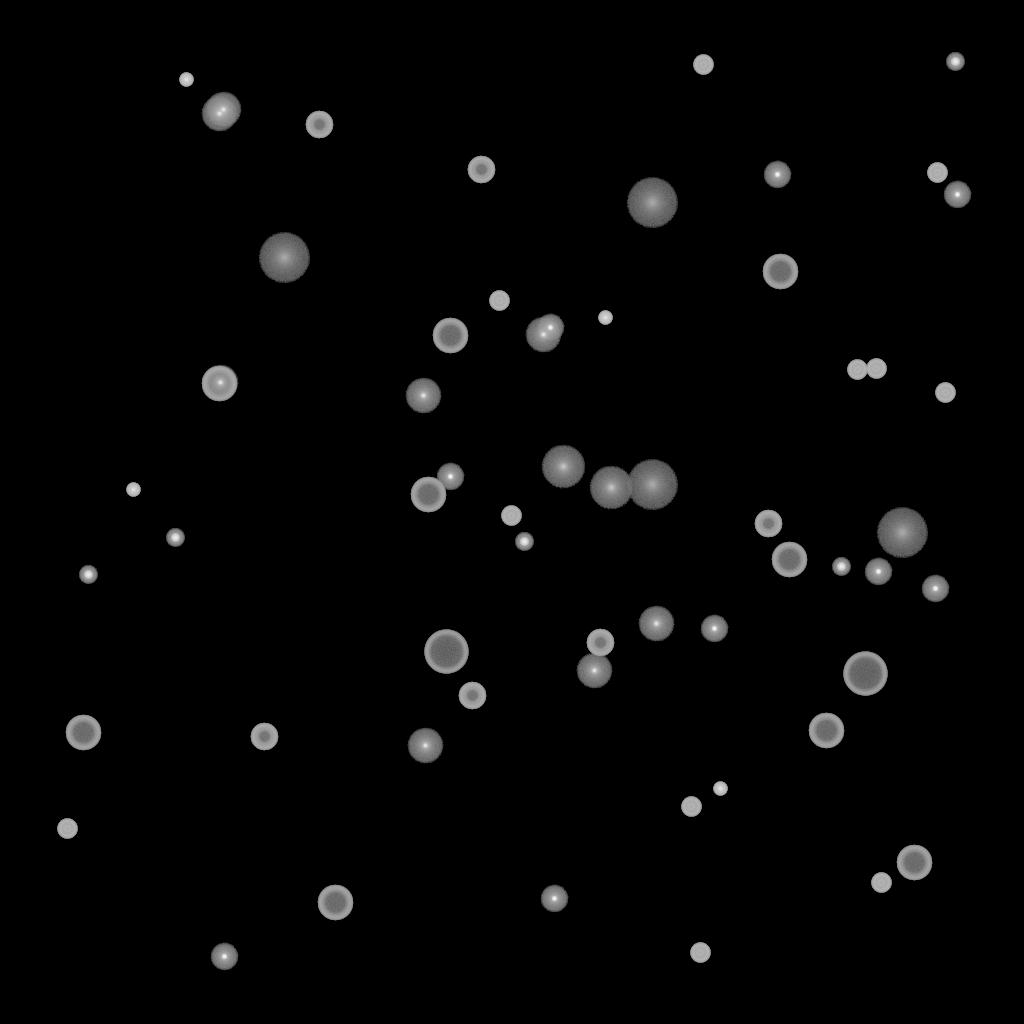depth:-10: (921, 575, 949, 603), (210, 943, 238, 971), (536, 314, 564, 342), (763, 161, 791, 189), (436, 463, 464, 491), (943, 181, 971, 209), (864, 558, 892, 586), (540, 885, 568, 913), (700, 615, 728, 643)
depth:-20: (515, 533, 533, 551), (79, 566, 97, 584), (832, 558, 850, 576), (166, 529, 184, 547), (946, 53, 964, 71)
depth:-30: (598, 311, 612, 325), (179, 73, 193, 87), (713, 782, 727, 796), (126, 483, 140, 497)
depth:-40: (690, 943, 710, 963), (866, 359, 886, 379), (57, 819, 77, 839), (501, 506, 521, 526), (681, 797, 701, 817), (927, 163, 947, 183), (935, 383, 955, 403), (847, 360, 867, 380), (489, 291, 509, 311), (693, 55, 713, 75), (871, 873, 891, 893)
depth:-50: (467, 156, 495, 184), (754, 510, 782, 538), (305, 111, 333, 139), (586, 629, 614, 657), (458, 682, 486, 710), (250, 723, 278, 751)
depth:-60: (808, 713, 844, 749), (896, 845, 932, 881), (762, 254, 798, 290), (410, 477, 446, 513), (771, 542, 807, 578), (432, 318, 468, 354), (65, 715, 101, 751), (317, 885, 353, 921), (201, 366, 237, 402)
depth:-70: (424, 630, 468, 674), (843, 652, 887, 696)
depth:0: (407, 728, 443, 764), (205, 92, 241, 128), (202, 365, 238, 401), (576, 653, 612, 689), (201, 96, 237, 132), (525, 317, 561, 353), (405, 378, 441, 414), (638, 606, 674, 642)
depth:10: (589, 466, 633, 510), (541, 445, 585, 489)
depth:20: (876, 508, 928, 558), (258, 233, 310, 283), (626, 178, 678, 228), (626, 460, 678, 510)
